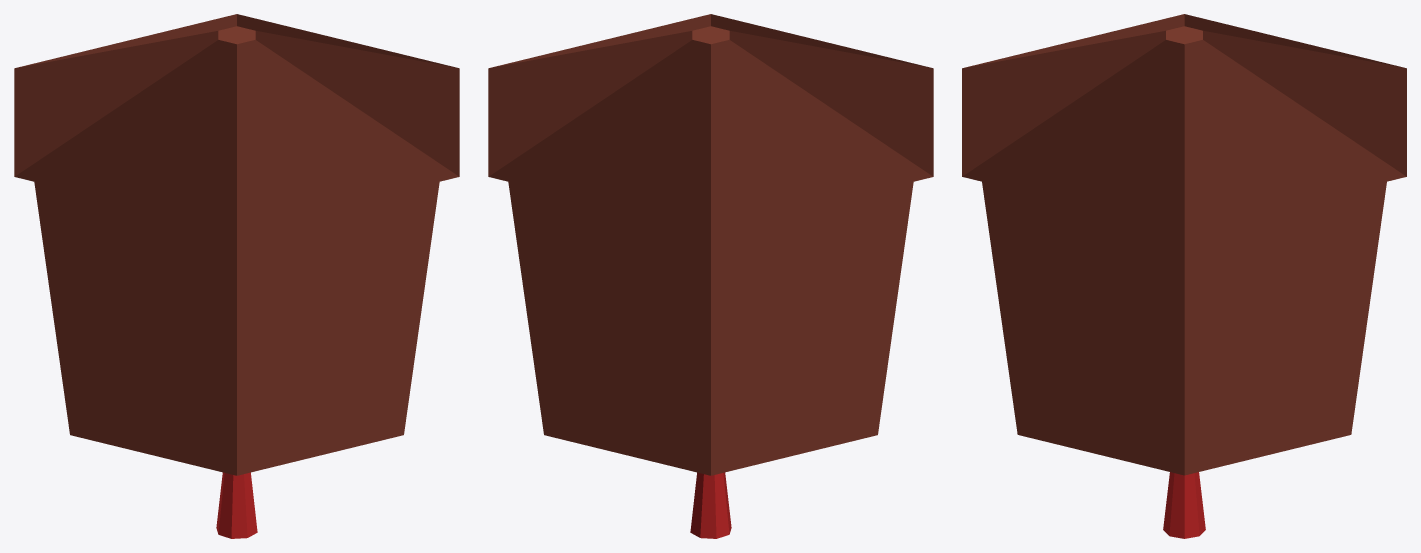
File: den_long_luc_giac.obj
The picture shows the model from 3 angles, left to right: view 1: azimuth 30°, elevation 25°; view 2: azimuth 150°, elevation 25°; view 3: azimuth 270°, elevation 25°; orthographic projection.
Bounding box in the file's own units: 0.48 × 0.51 × 0.4156.
